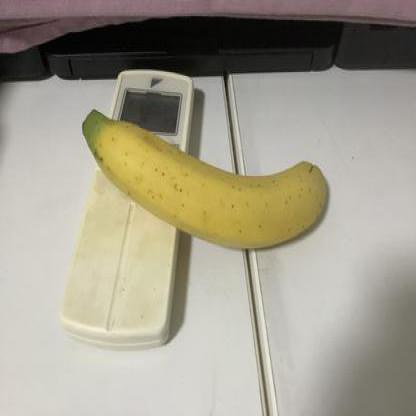bananarotation: (78, 104, 329, 250)
